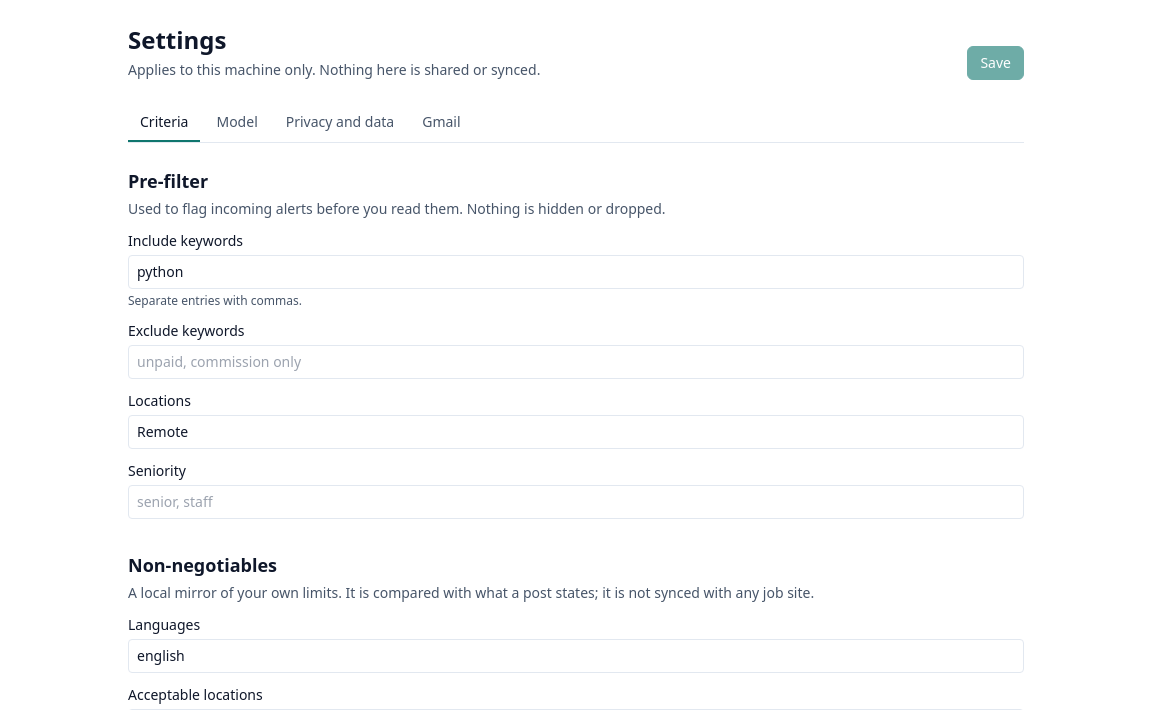
Test case: Settings › names the host that receives redacted text and what is stored
The image size is (1152, 710).
Click the tab "Privacy and data".
click(340, 123)  # box [274,104,406,142]
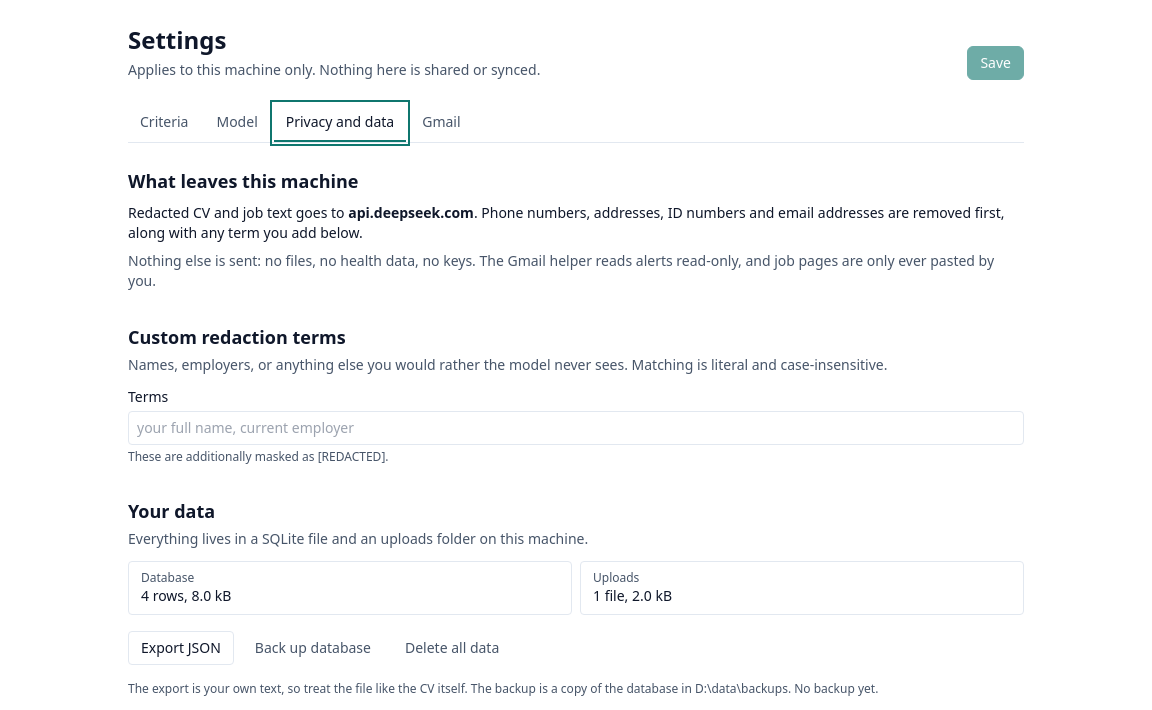
expect the text "api.deepseek.com" is shown: met, box [348,203,474,222]
expect the text "1 file, 2.0 kB" is shown: met, box [593,586,672,605]
